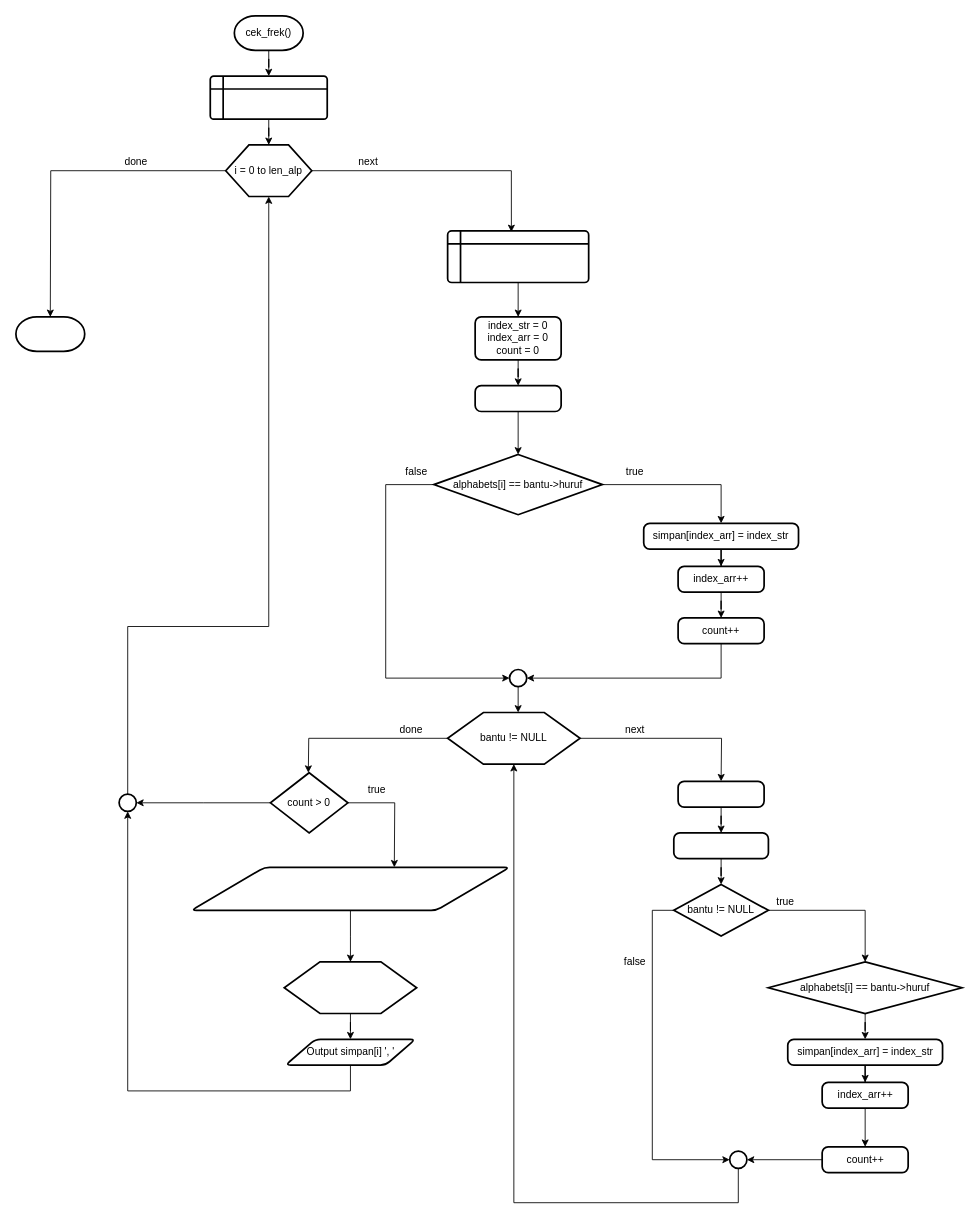
Some shapes in this 977 by 1225 pixel diagram are drawn without their labels. The shapes that lost their labels are listed below. From the top down, each one's centre as x and y in pixels, then its label:
point 268,97: Node *bantu
point 517,256: int index_str, index_arr, simpan[100], count
point 50,334: End
point 518,398: bantu = head
point 721,794: index_str++
point 721,845: bantu = bantu->next
point 350,888: Output alphabhets[i] " : " count " kali pada "
point 350,987: i = 0 to count
